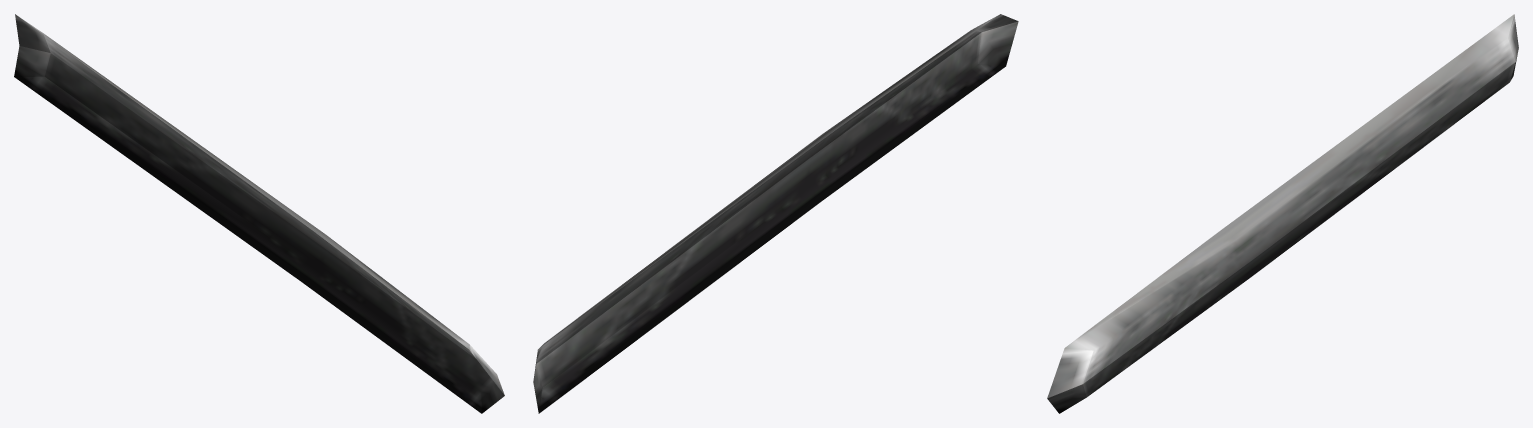
The picture shows the model from 3 angles, left to right: view 1: azimuth 30°, elevation 25°; view 2: azimuth 150°, elevation 25°; view 3: azimuth 330°, elevation 25°; orthographic projection. The views are drawn at different scales.
Visible parts, largest first — view 1: wg_r_lr_sv; view 2: wg_r_lr_sv; view 3: wg_r_lr_sv.
Boxes of the visible parts, left/top/right/bottom form: wg_r_lr_sv: left=14, top=14, right=504, bottom=413; wg_r_lr_sv: left=533, top=14, right=1018, bottom=413; wg_r_lr_sv: left=1047, top=14, right=1518, bottom=413.
Bounding box in the file's own units: 0.0406 × 0.0972 × 1.35.
Materials: 1 (1 with a texture image).
